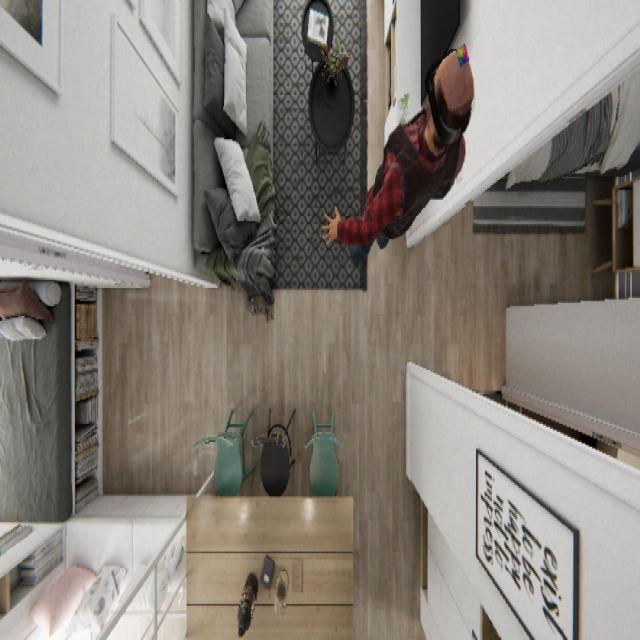Human: (320, 41, 475, 265)
